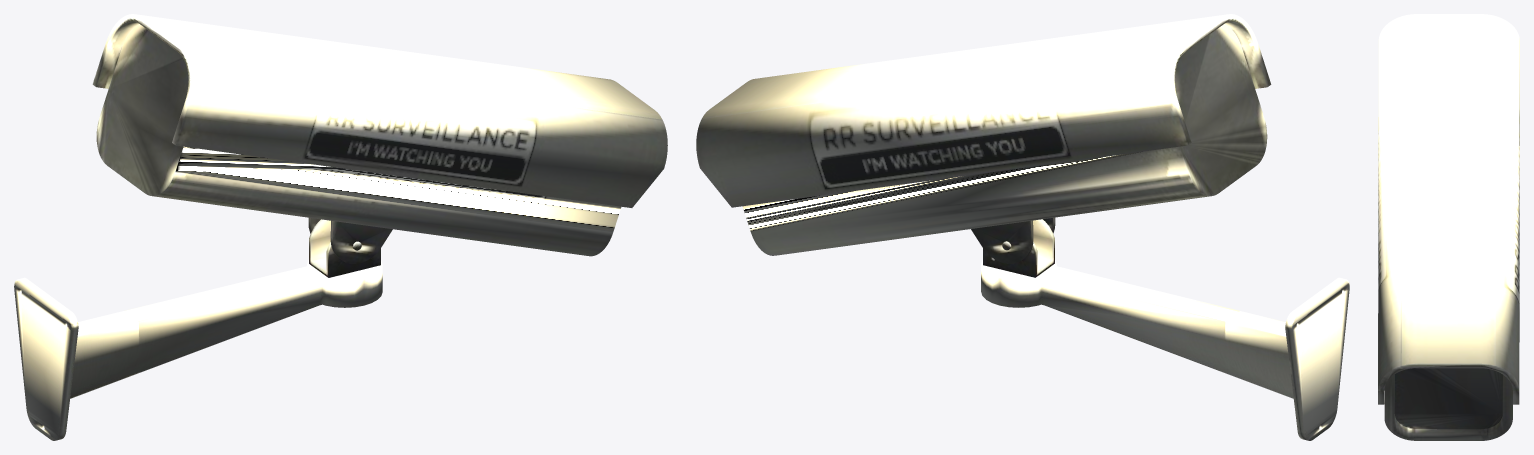
The model's file is Camera.fbx.
The picture shows the model from 3 angles, left to right: view 1: azimuth 30°, elevation 25°; view 2: azimuth 150°, elevation 25°; view 3: azimuth 270°, elevation 25°; orthographic projection. The views are drawn at different scales.
Parts seen in each view (by area): view 1: Camera, Holder; view 2: Camera, Holder; view 3: Camera.
Part boxes in pixels (x1,y1,x2,y2): Camera: (92, 14, 667, 277); Holder: (14, 260, 382, 440); Camera: (696, 14, 1271, 277); Holder: (981, 260, 1349, 440); Camera: (1378, 14, 1519, 440).
Size of the model in its own units: 178 by 107 by 43.43.
Materials: 2 (2 with a texture image).
